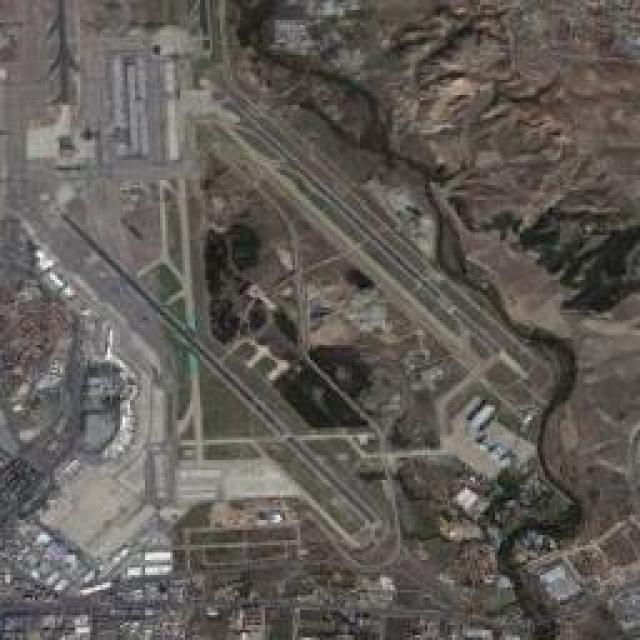Airport: (0, 0, 638, 638)
